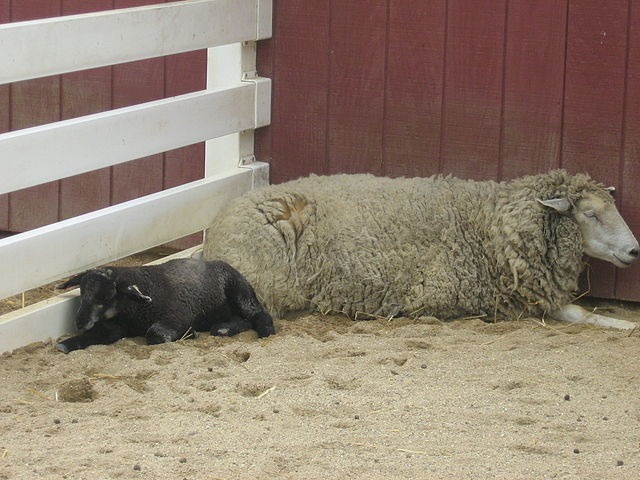resting: (207, 166, 638, 335), (54, 258, 276, 344)
